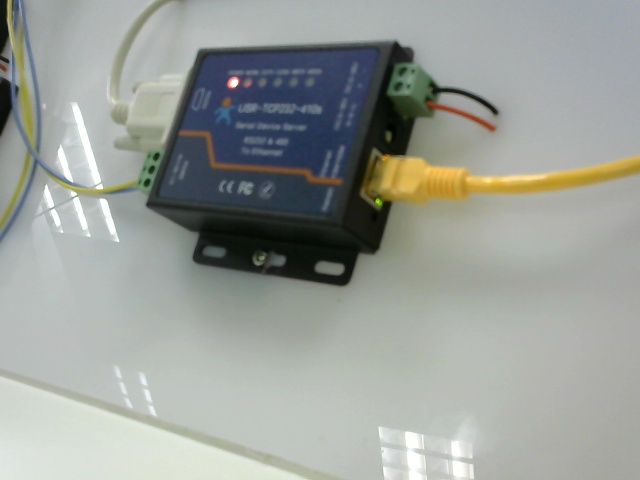modbus bridge: (154, 41, 434, 276)
